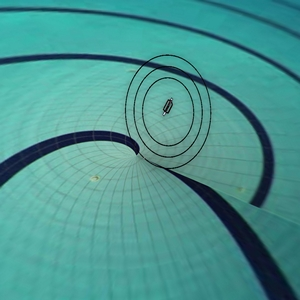circle: (114, 41, 216, 184)
submarine: (157, 93, 176, 118)
